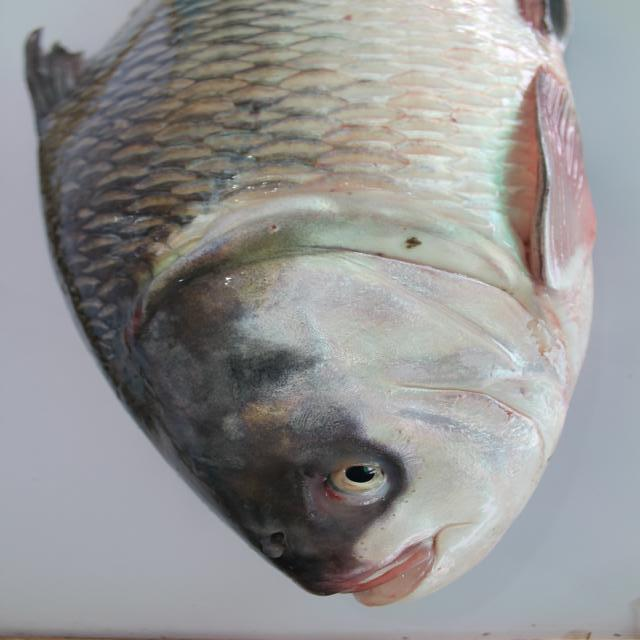Catla: (1, 3, 601, 609)
